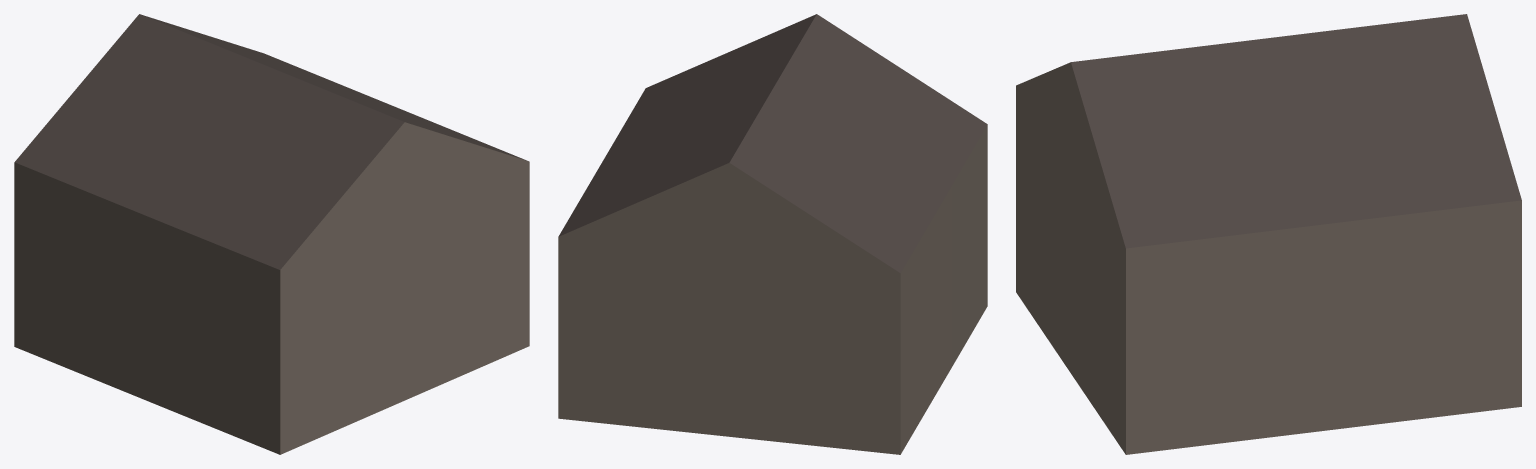
3 renders of one model, left to right at view 1: azimuth 30°, elevation 25°; view 2: azimuth 150°, elevation 25°; view 3: azimuth 270°, elevation 25°, orthographic. The views are drawn at different scales.
Visible parts, largest first — view 1: HP-w1197253896; view 2: HP-w1197253896; view 3: HP-w1197253896.
Boxes of the visible parts, box(x1,y1,x2,y2) form: HP-w1197253896: box(14, 14, 529, 454); HP-w1197253896: box(558, 14, 987, 454); HP-w1197253896: box(1016, 14, 1521, 454).
Bounding box in the file's own units: 13.16 × 9.05 × 13.33.
